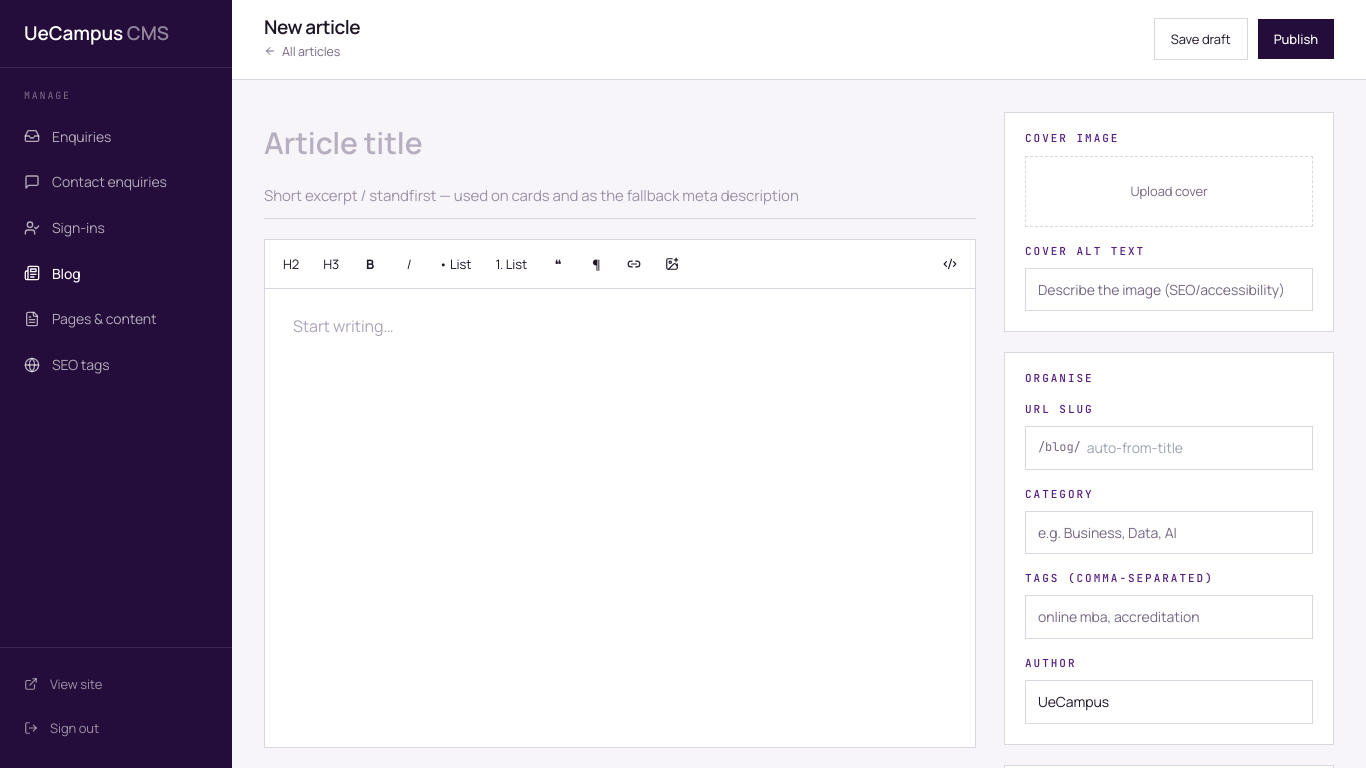
it: AdminBlogEditor › auto-slugs a new post from its title but never an existing one
In the field with placeholder "Article title": (620, 143) [264,112,976,174], type "Hello There World"
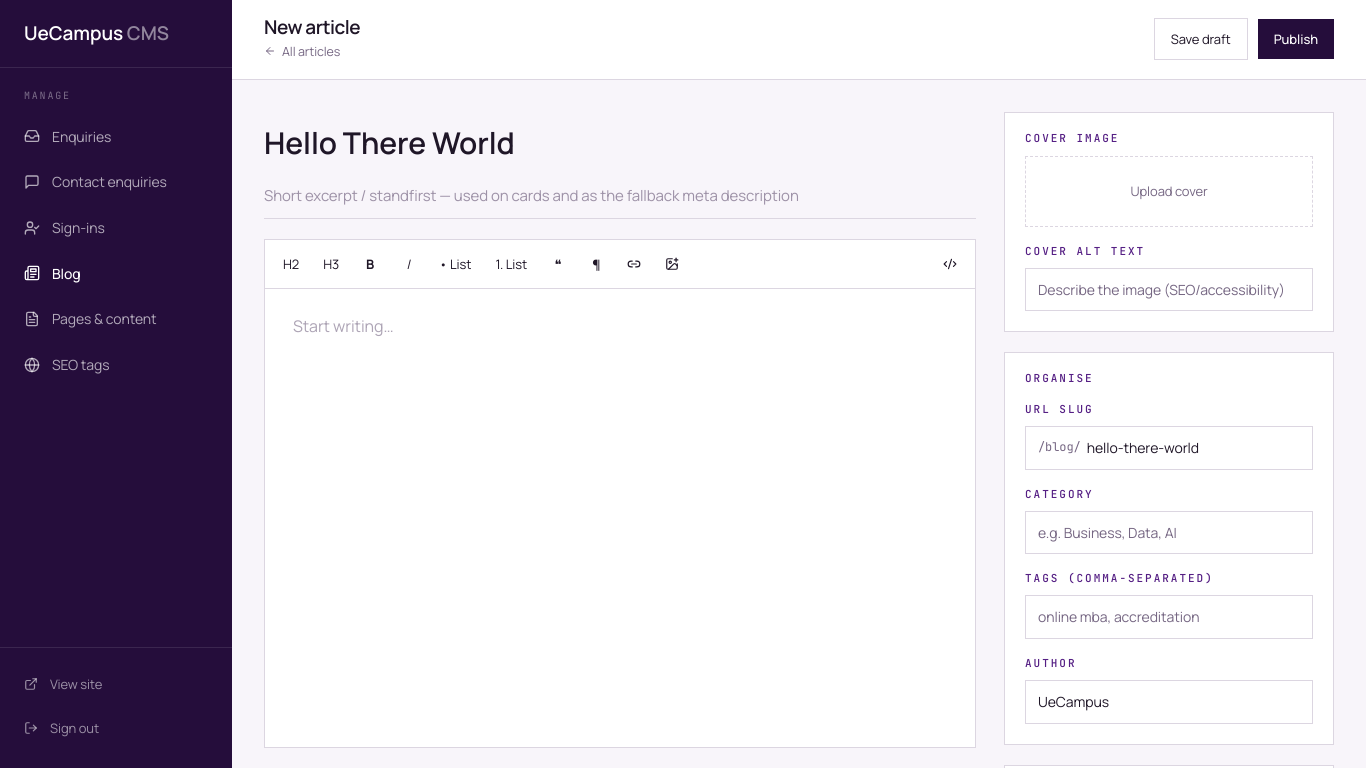
Now the field showing "hello-there-world" is shown, box [1081,427,1312,468]
